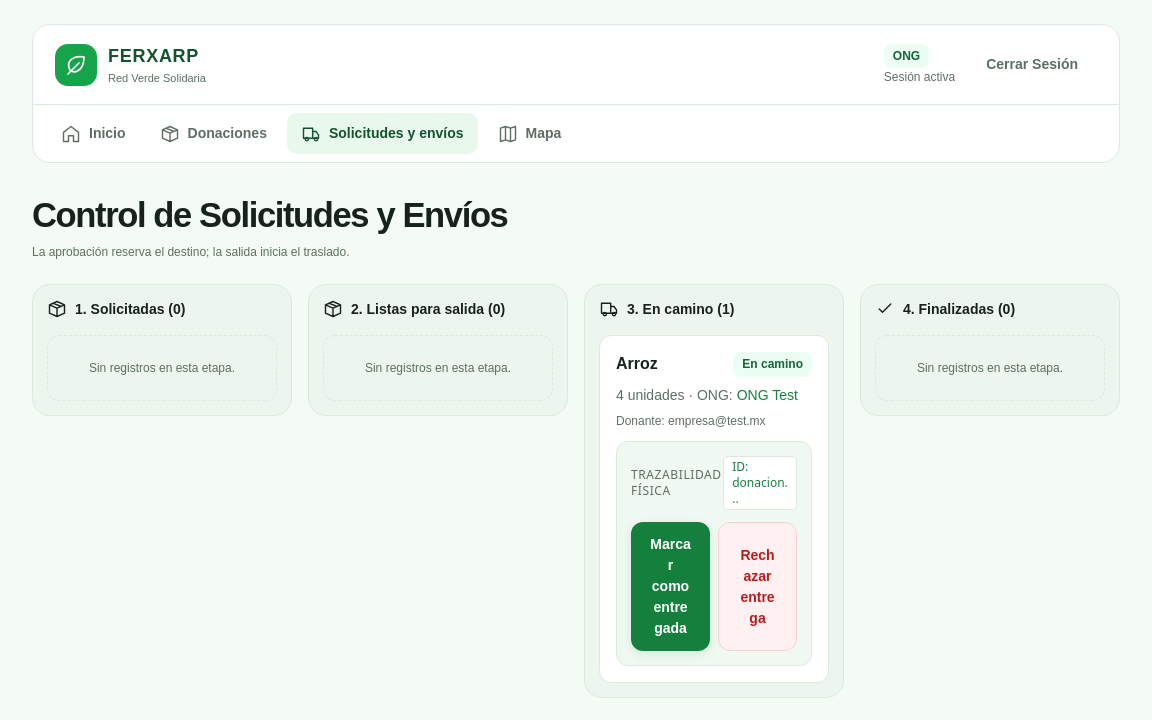
Test: JEST-REJECT-01 motivo vacío no envía request
Click the button "Rechazar entrega" at (758, 587), box [718,522,797,651]
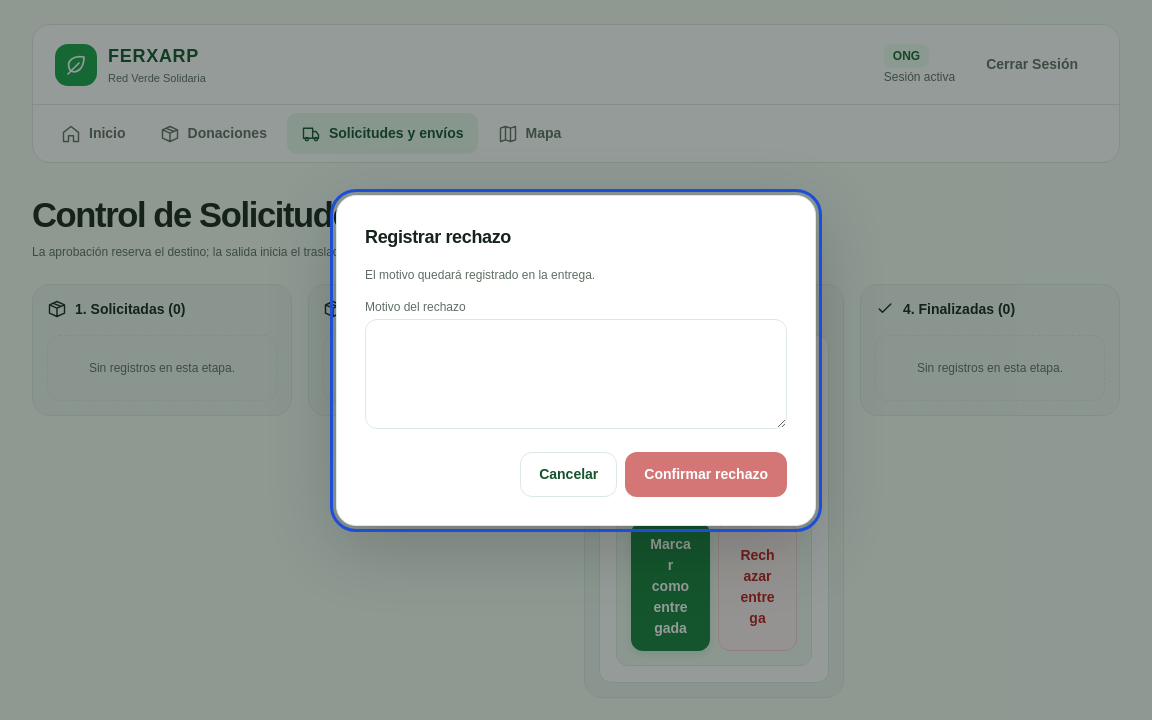
Expected: the dialog is shown, [336,194,816,526]
Expected: the button "Confirmar rechazo" is disabled, [625,452,787,496]
Expected: the form labelled "Motivo del rechazo" is shown
Submit the form labelled "Motivo del rechazo", box [365,298,787,496]
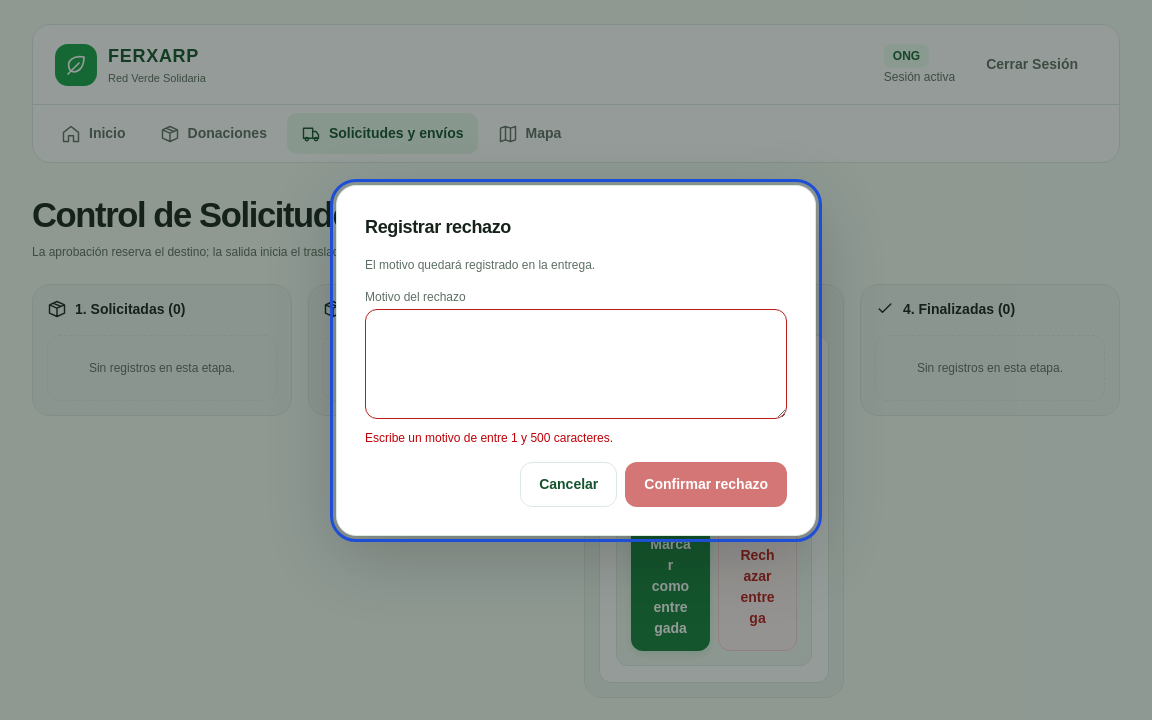
Expected: the text "Escribe un motivo de entre 1 y 500 caracteres." is shown, [365,430,613,444]
